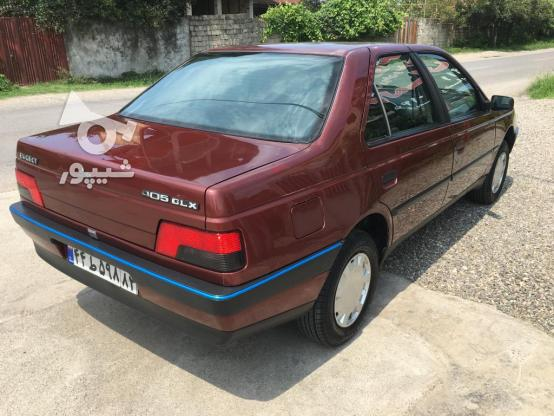car: (65, 242, 142, 297)
